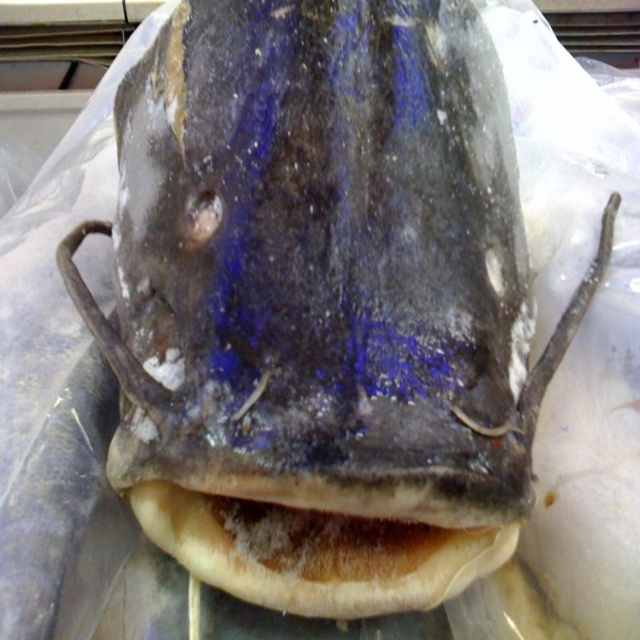Fish: (42, 0, 602, 609)
